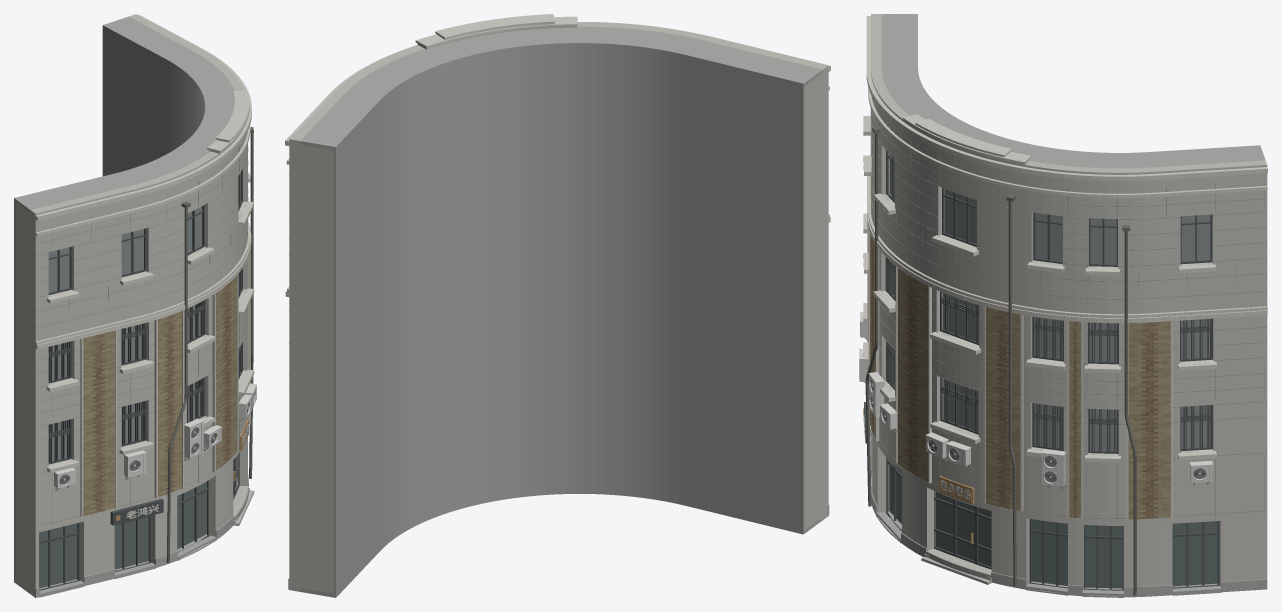
The model's file is huangpu-american-oriental-bank-rounded-corner-web.glb.
The picture shows the model from 3 angles, left to right: view 1: azimuth 30°, elevation 25°; view 2: azimuth 150°, elevation 25°; view 3: azimuth 270°, elevation 25°; orthographic projection. The views are drawn at different scales.
Visible parts, largest first — view 1: 上海美丰银行河南中路宁波路弧形转角; view 2: 上海美丰银行河南中路宁波路弧形转角; view 3: 上海美丰银行河南中路宁波路弧形转角.
Part boxes in pixels (<box>): 上海美丰银行河南中路宁波路弧形转角: <box>14,14,256,597</box>; 上海美丰银行河南中路宁波路弧形转角: <box>285,14,830,597</box>; 上海美丰银行河南中路宁波路弧形转角: <box>859,14,1267,597</box>.
Bounding box in the file's own units: 12.2 × 15.14 × 13.
19 materials, 1 textured.
